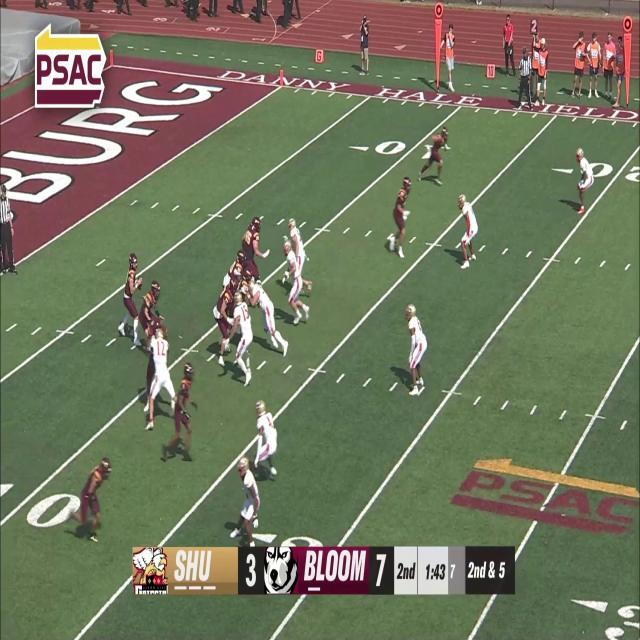football: (137, 276, 144, 292)
